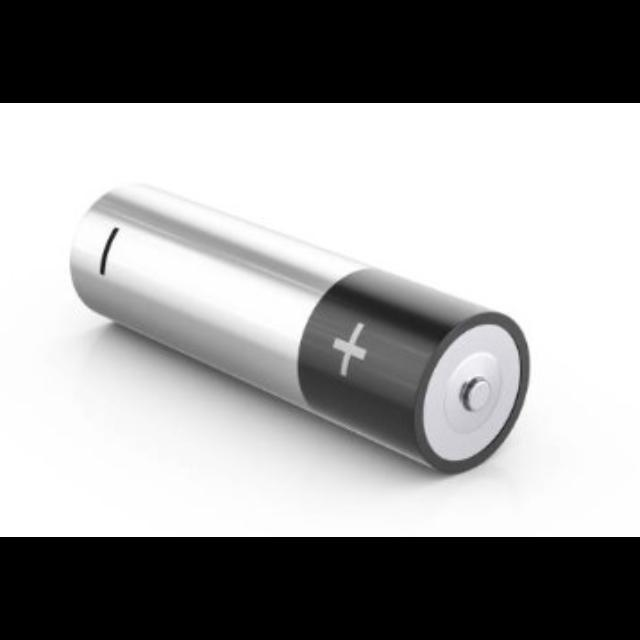Battery: (68, 182, 533, 477)
